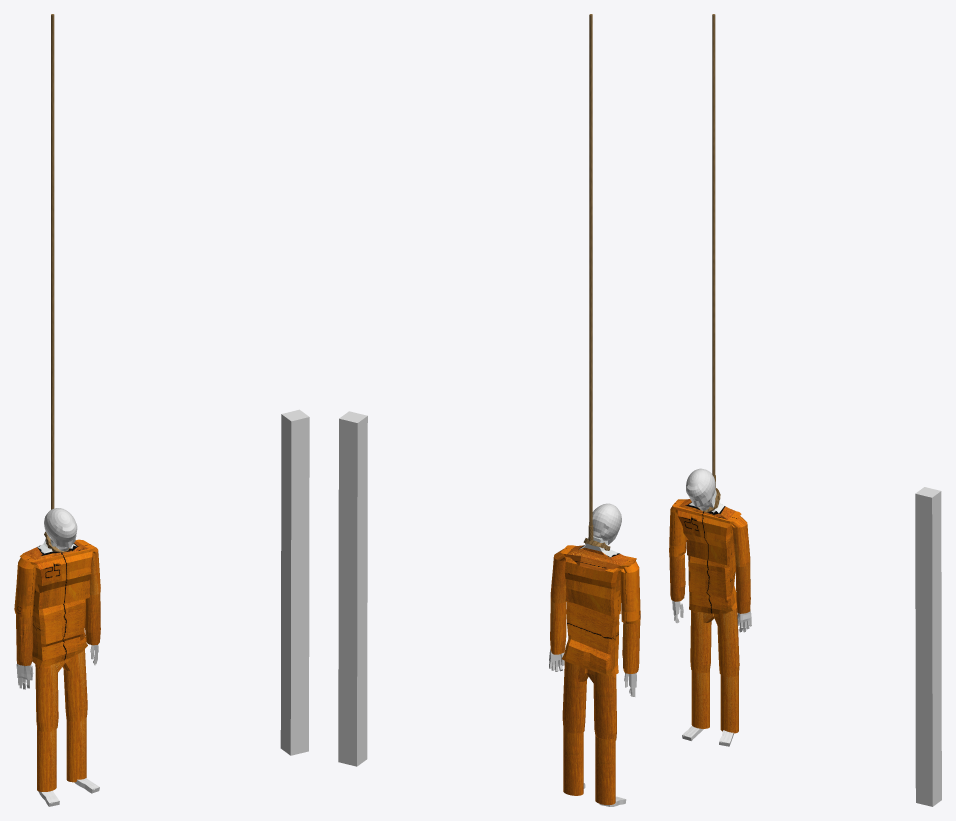
Rendered from Hanged_MAN_(2).fbx.
3 renders of one model, left to right at view 1: azimuth 30°, elevation 25°; view 2: azimuth 150°, elevation 25°; view 3: azimuth 330°, elevation 25°, orthographic. The views are drawn at different scales.
Parts seen in each view (by area): view 1: player refrence, Cube, Cylinder.008, Cylinder.003, Cylinder.004, Cylinder.005, Cylinder.006, Sphere, Cylinder, Cylinder.001, Cube.001; view 2: player refrence, Cube, Cylinder.008, Cylinder.004, Cylinder.003, Cylinder.006, Cylinder.005, Cube.001, Sphere, Cylinder, Cylinder.001, Cylinder.002; view 3: player refrence, Cube, Cylinder.008, Cylinder.004, Cylinder.003, Cylinder.006, Cylinder.005, Sphere, Cylinder.002, Cylinder.001, Cylinder, Cube.001.
Part boxes in pixels (x1,y1,x2,y2): player refrence: (280,409,309,755); Cube: (14,539,95,667); Cylinder.008: (51,14,54,509); Cylinder.003: (35,660,65,731); Cylinder.004: (62,649,87,721); Cylinder.005: (66,718,86,782); Cylinder.006: (37,728,56,791); Sphere: (44,508,77,550); Cylinder: (16,615,32,665); Cylinder.001: (85,593,100,645); Cube.001: (24,538,88,560); player refrence: (338,411,367,766); Cube: (560,545,640,676); Cylinder.008: (589,14,592,526); Cylinder.004: (562,661,588,733); Cylinder.003: (587,669,616,741); Cylinder.006: (595,736,615,804); Cylinder.005: (563,728,583,795); Cube.001: (567,536,629,571); Sphere: (589,503,621,544); Cylinder: (622,621,640,673); Cylinder.001: (550,600,566,654); Cylinder.002: (550,549,565,603); player refrence: (915,487,941,806); Cube: (669,499,741,613); Cylinder.008: (712,14,715,476); Cylinder.004: (713,608,739,677); Cylinder.003: (690,610,714,673); Cylinder.006: (691,670,709,728); Cylinder.005: (720,674,738,733); Sphere: (686,468,715,510); Cylinder.002: (731,516,750,567); Cylinder.001: (735,562,750,613); Cylinder: (669,553,685,601); Cube.001: (679,490,735,519).
Bounding box in the file's own units: 175 × 460 × 26.86.
